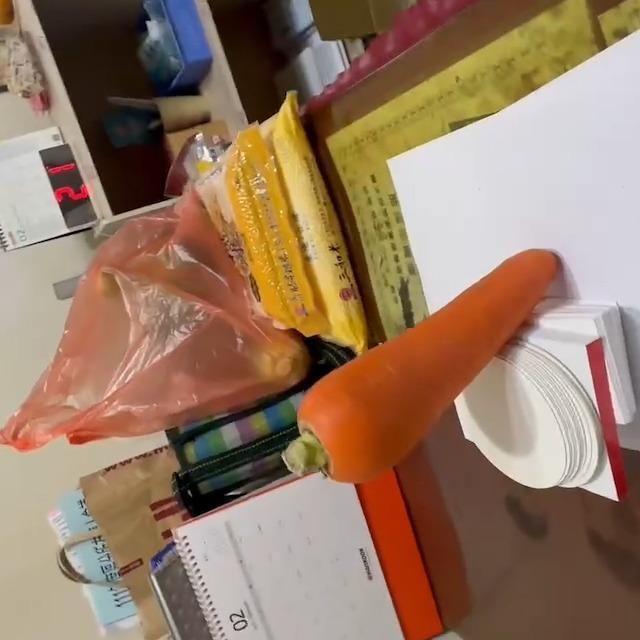carrot: (282, 245, 563, 486)
